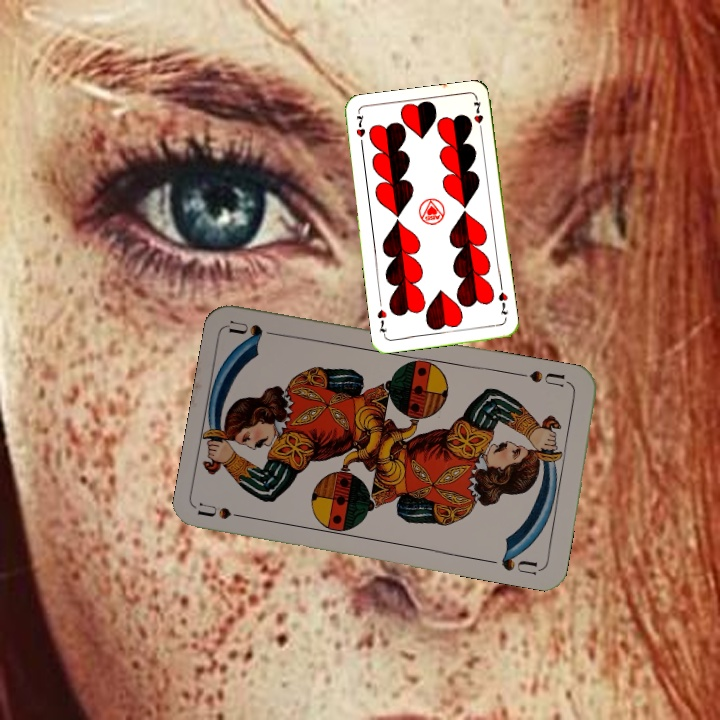H7: (352, 109, 368, 150), (494, 288, 511, 317)
SU: (515, 366, 574, 390), (196, 499, 255, 522)
